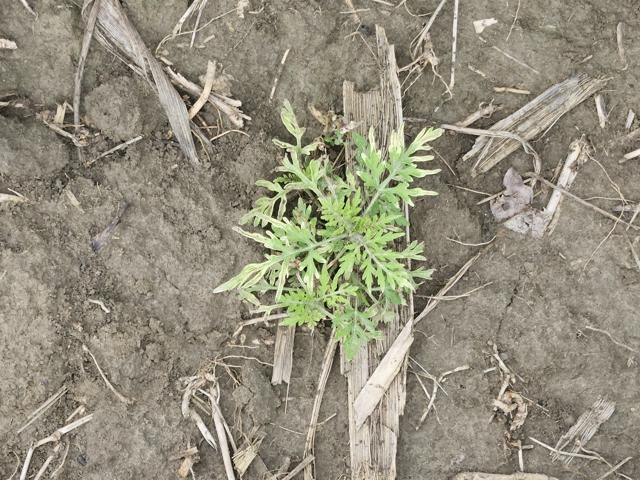bad weed: (206, 110, 489, 352)
